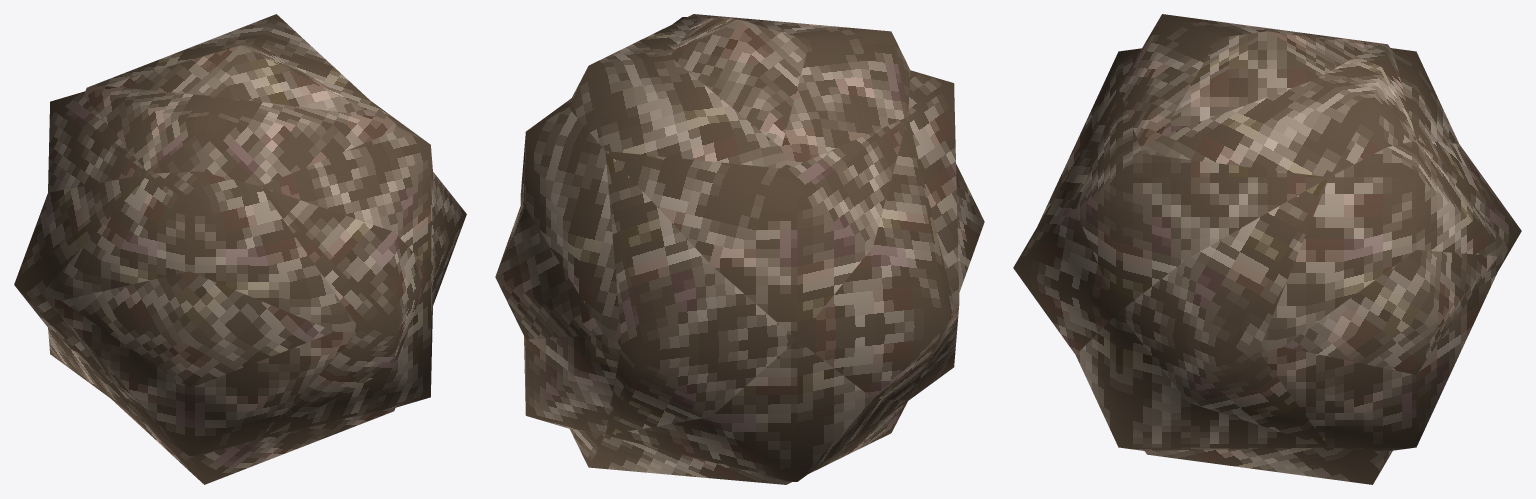
Rendered from int_wst_tumbleweed.dae.
The picture shows the model from 3 angles, left to right: view 1: azimuth 30°, elevation 25°; view 2: azimuth 150°, elevation 25°; view 3: azimuth 270°, elevation 25°; orthographic projection. The views are drawn at different scales.
Visible parts, largest first — view 1: int_wst_tumbleweed; view 2: int_wst_tumbleweed; view 3: int_wst_tumbleweed.
Part boxes in pixels (x1,y1,x2,y2): int_wst_tumbleweed: (14, 14, 466, 484); int_wst_tumbleweed: (495, 14, 984, 484); int_wst_tumbleweed: (1013, 14, 1521, 484).
Size of the model in its own units: 23.94 by 22.67 by 23.94.
1 material, 1 textured.
